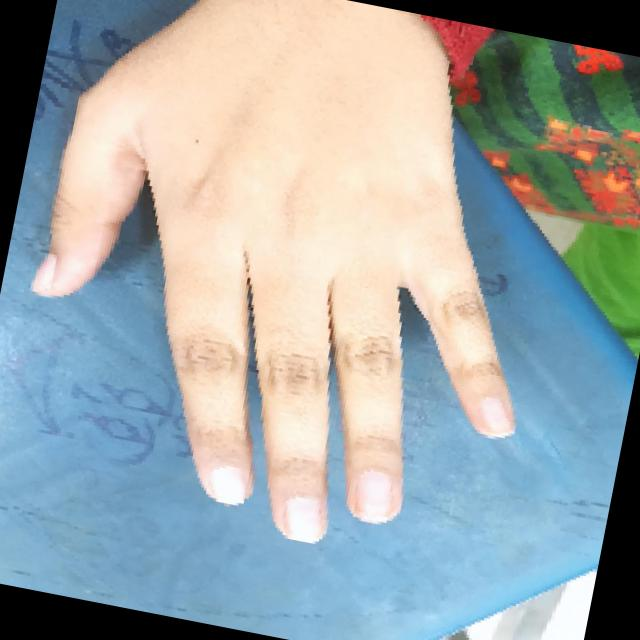Nail: (355, 469, 392, 522), (284, 496, 322, 542), (209, 465, 246, 504), (479, 396, 512, 436), (32, 251, 57, 294)
